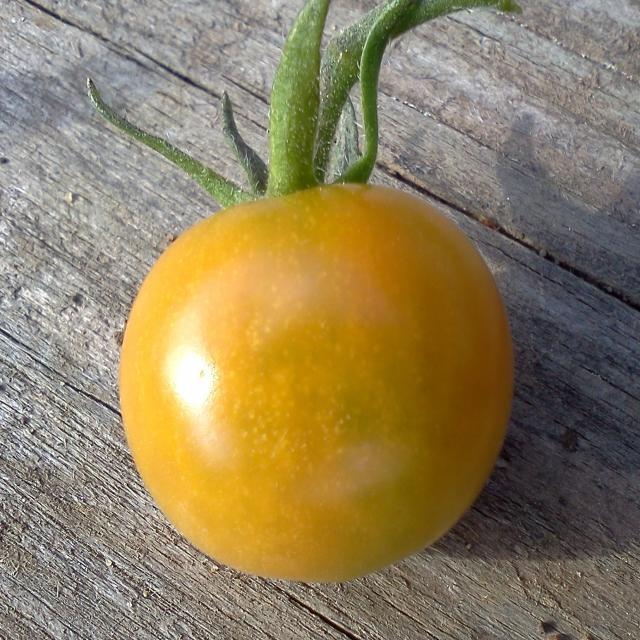sari: (114, 171, 560, 612)
